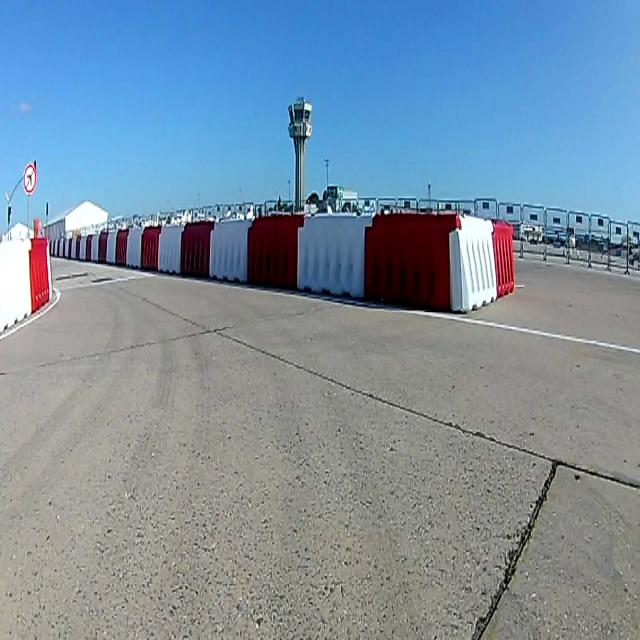soladonulmez: (22, 160, 37, 200)
